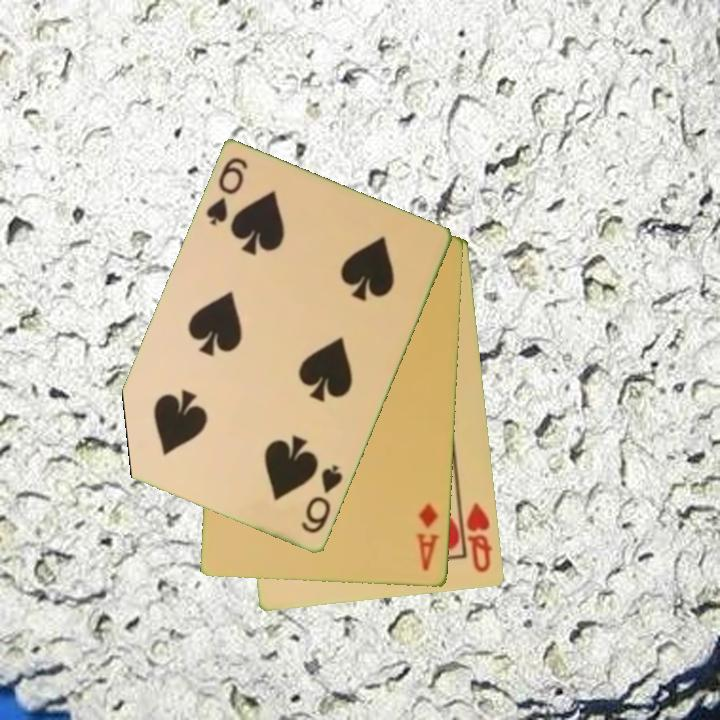6s: (202, 154, 252, 229), (298, 462, 346, 537)
Ad: (413, 500, 443, 575)
Qh: (458, 496, 496, 576)
